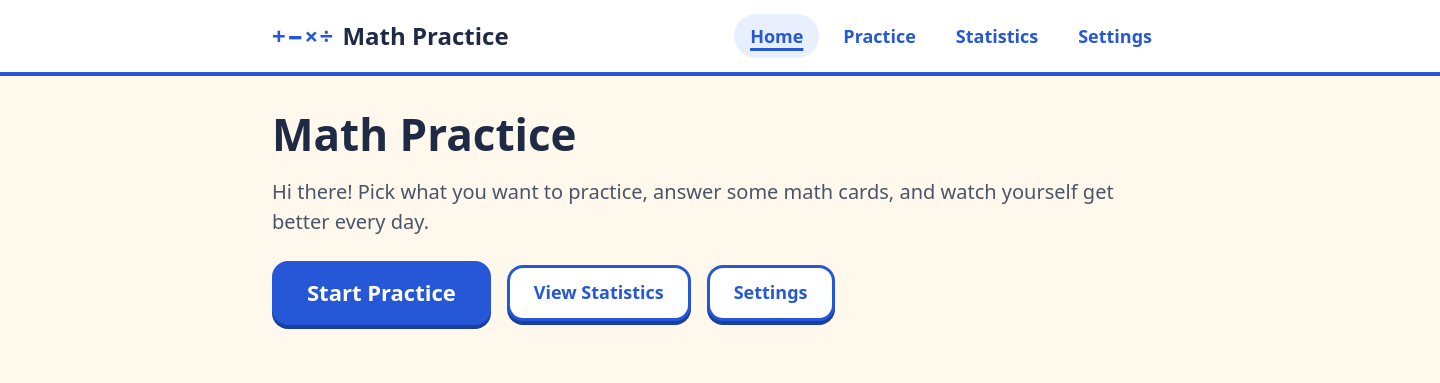
Test: Home page › View Statistics opens /statistics
Click the link "View Statistics": (599, 293) left=507, top=265, right=691, bottom=321
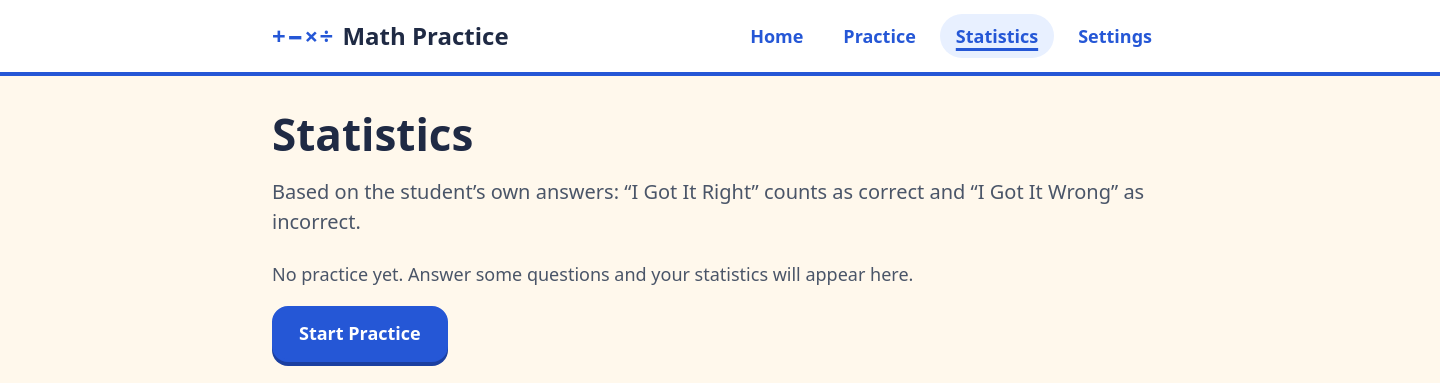
Now the heading "Statistics" is shown, box left=272, top=104, right=473, bottom=164
